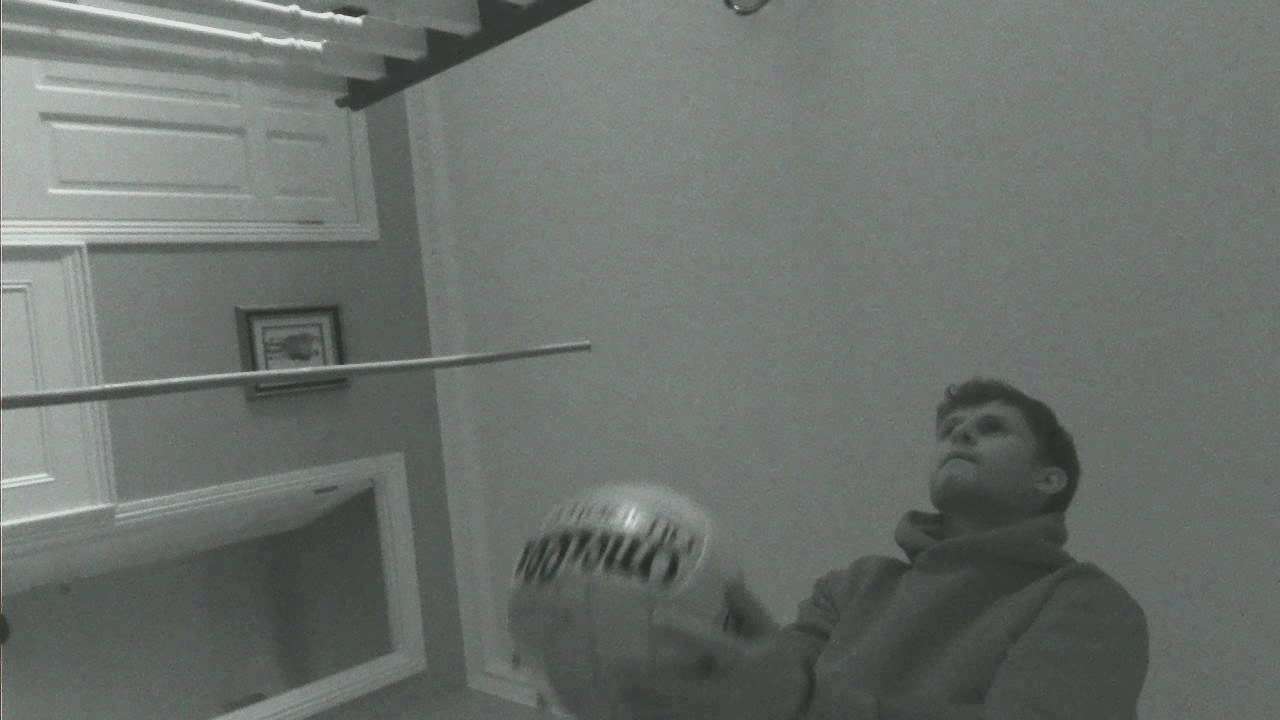Football-Spotter: (509, 485, 738, 719)
